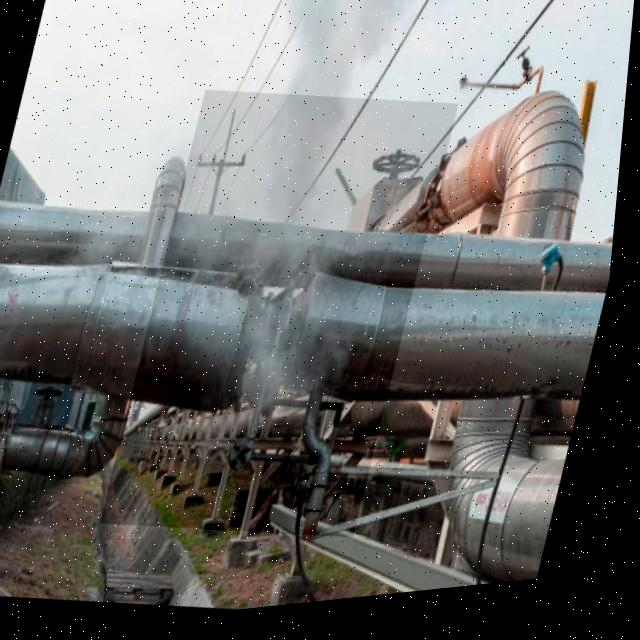corrosion: (198, 154, 353, 390)
